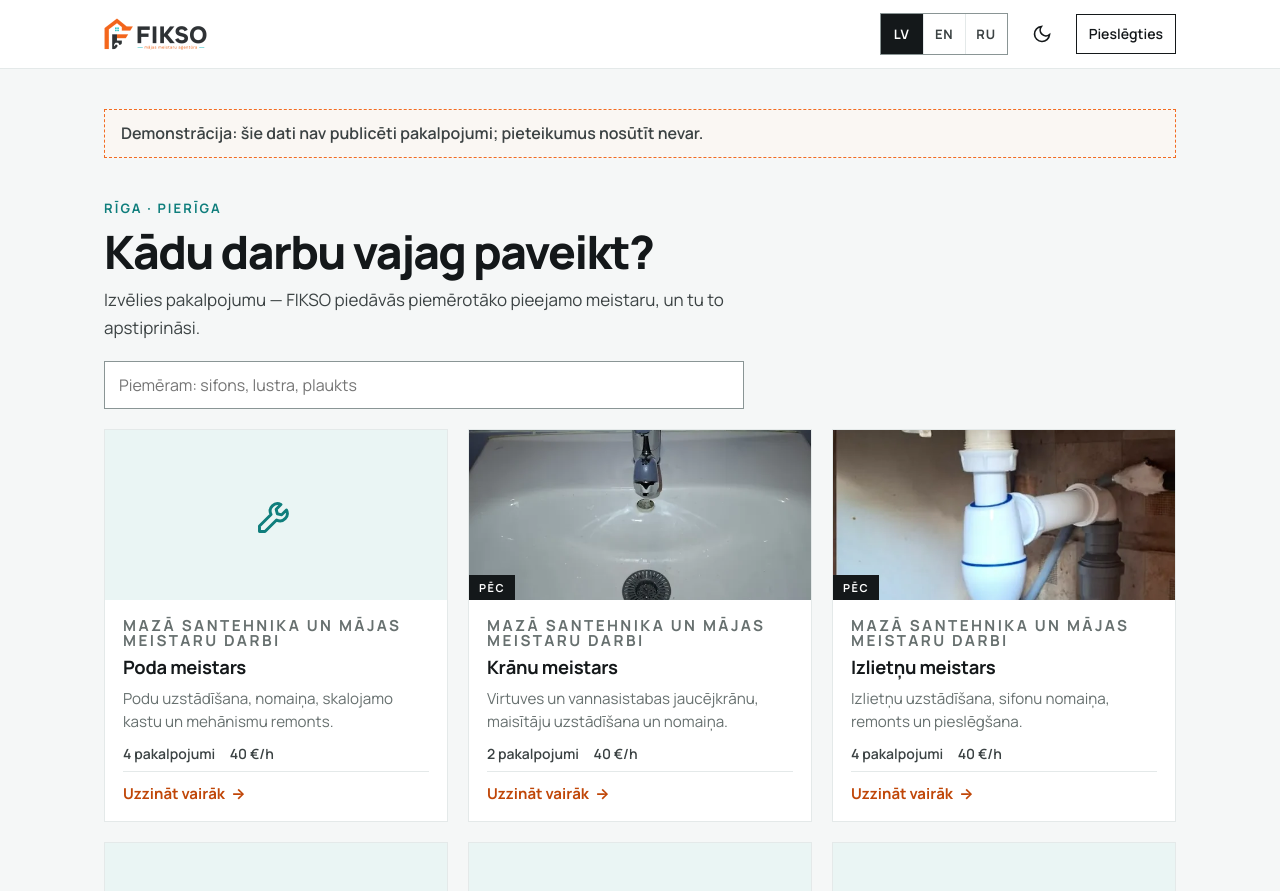
it: client catalogue with the demo layer › search narrows the cards
Type "sifon" into the search field named "Meklēt pakalpojumu" at (424, 385), box [104,361,744,409]
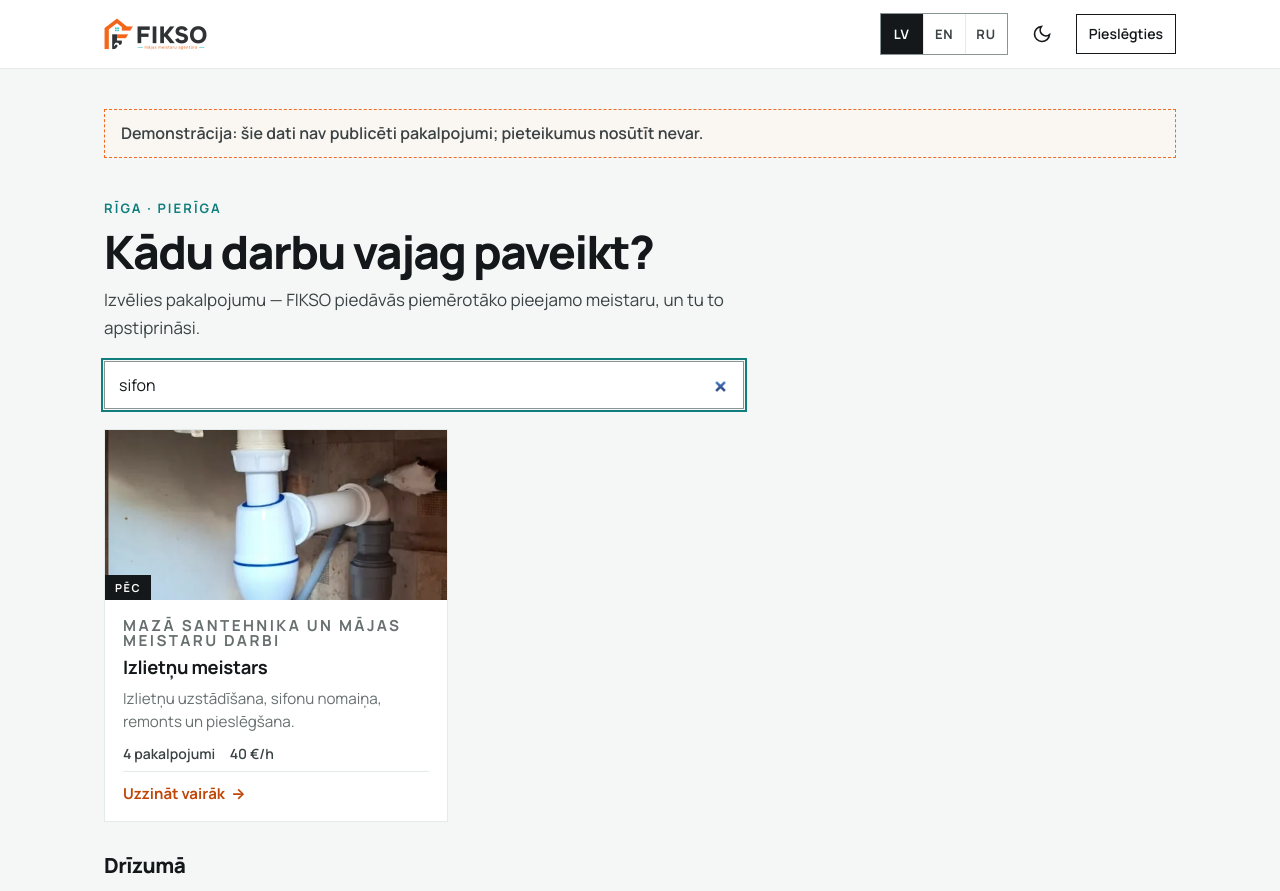
expect the headings read "Izlietņu meistars", in this order: met, box [123,654,267,680]
